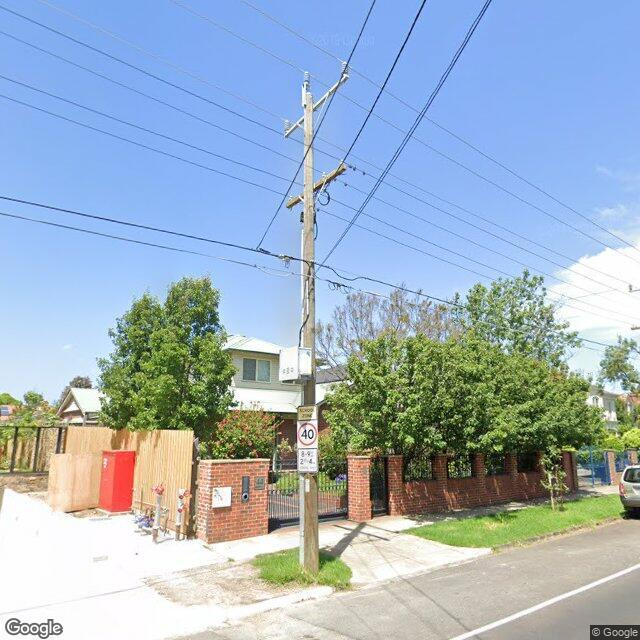HV-transmission: (284, 62, 348, 131)
crossarm: (284, 74, 349, 139), (286, 162, 347, 208)
timber-pole: (303, 93, 320, 574)
transformer: (279, 346, 312, 382)
